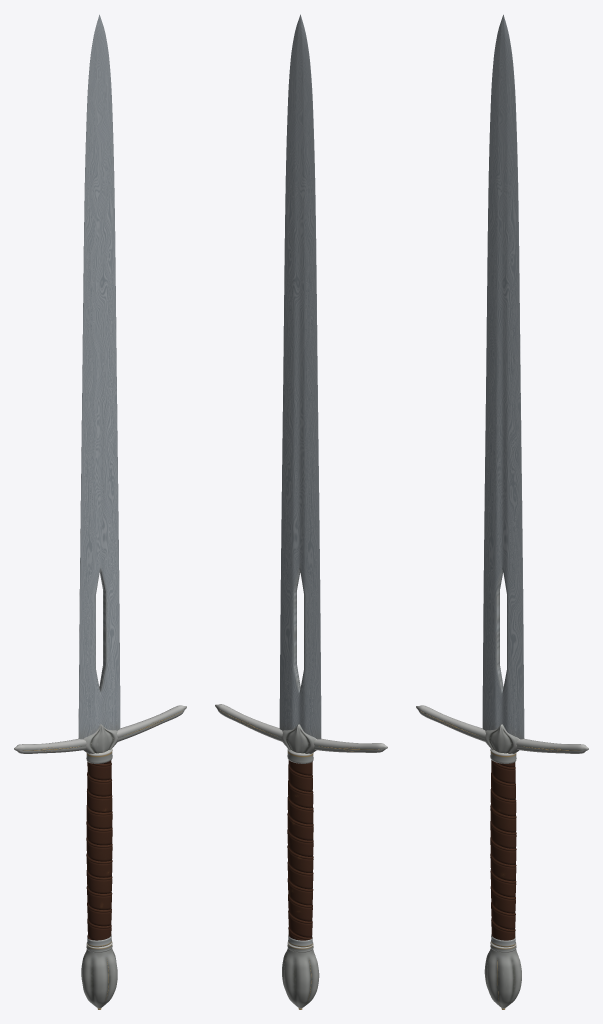
File: branch-sword-field-v3.glb
3 views of the same model, side by side, from view 1: azimuth 30°, elevation 25°; view 2: azimuth 150°, elevation 25°; view 3: azimuth 330°, elevation 25° (orthographic).
Parts seen in each view (by area): view 1: Blade, Grip, Guard, Pommel; view 2: Blade, Grip, Guard, Pommel; view 3: Blade, Grip, Guard, Pommel.
Boxes of the visible parts, <box> form: Blade: <box>78,14,120,739</box>; Grip: <box>86,760,112,947</box>; Guard: <box>14,705,186,763</box>; Pommel: <box>81,941,117,1009</box>; Blade: <box>279,14,321,739</box>; Grip: <box>287,760,313,947</box>; Guard: <box>215,704,387,763</box>; Pommel: <box>282,941,319,1009</box>; Blade: <box>482,14,524,739</box>; Grip: <box>490,760,516,947</box>; Guard: <box>416,705,588,763</box>; Pommel: <box>484,941,521,1009</box>.
Size of the model in its own units: 0.23 by 1.27 by 0.0388.
Materials: 8 (4 with a texture image).
